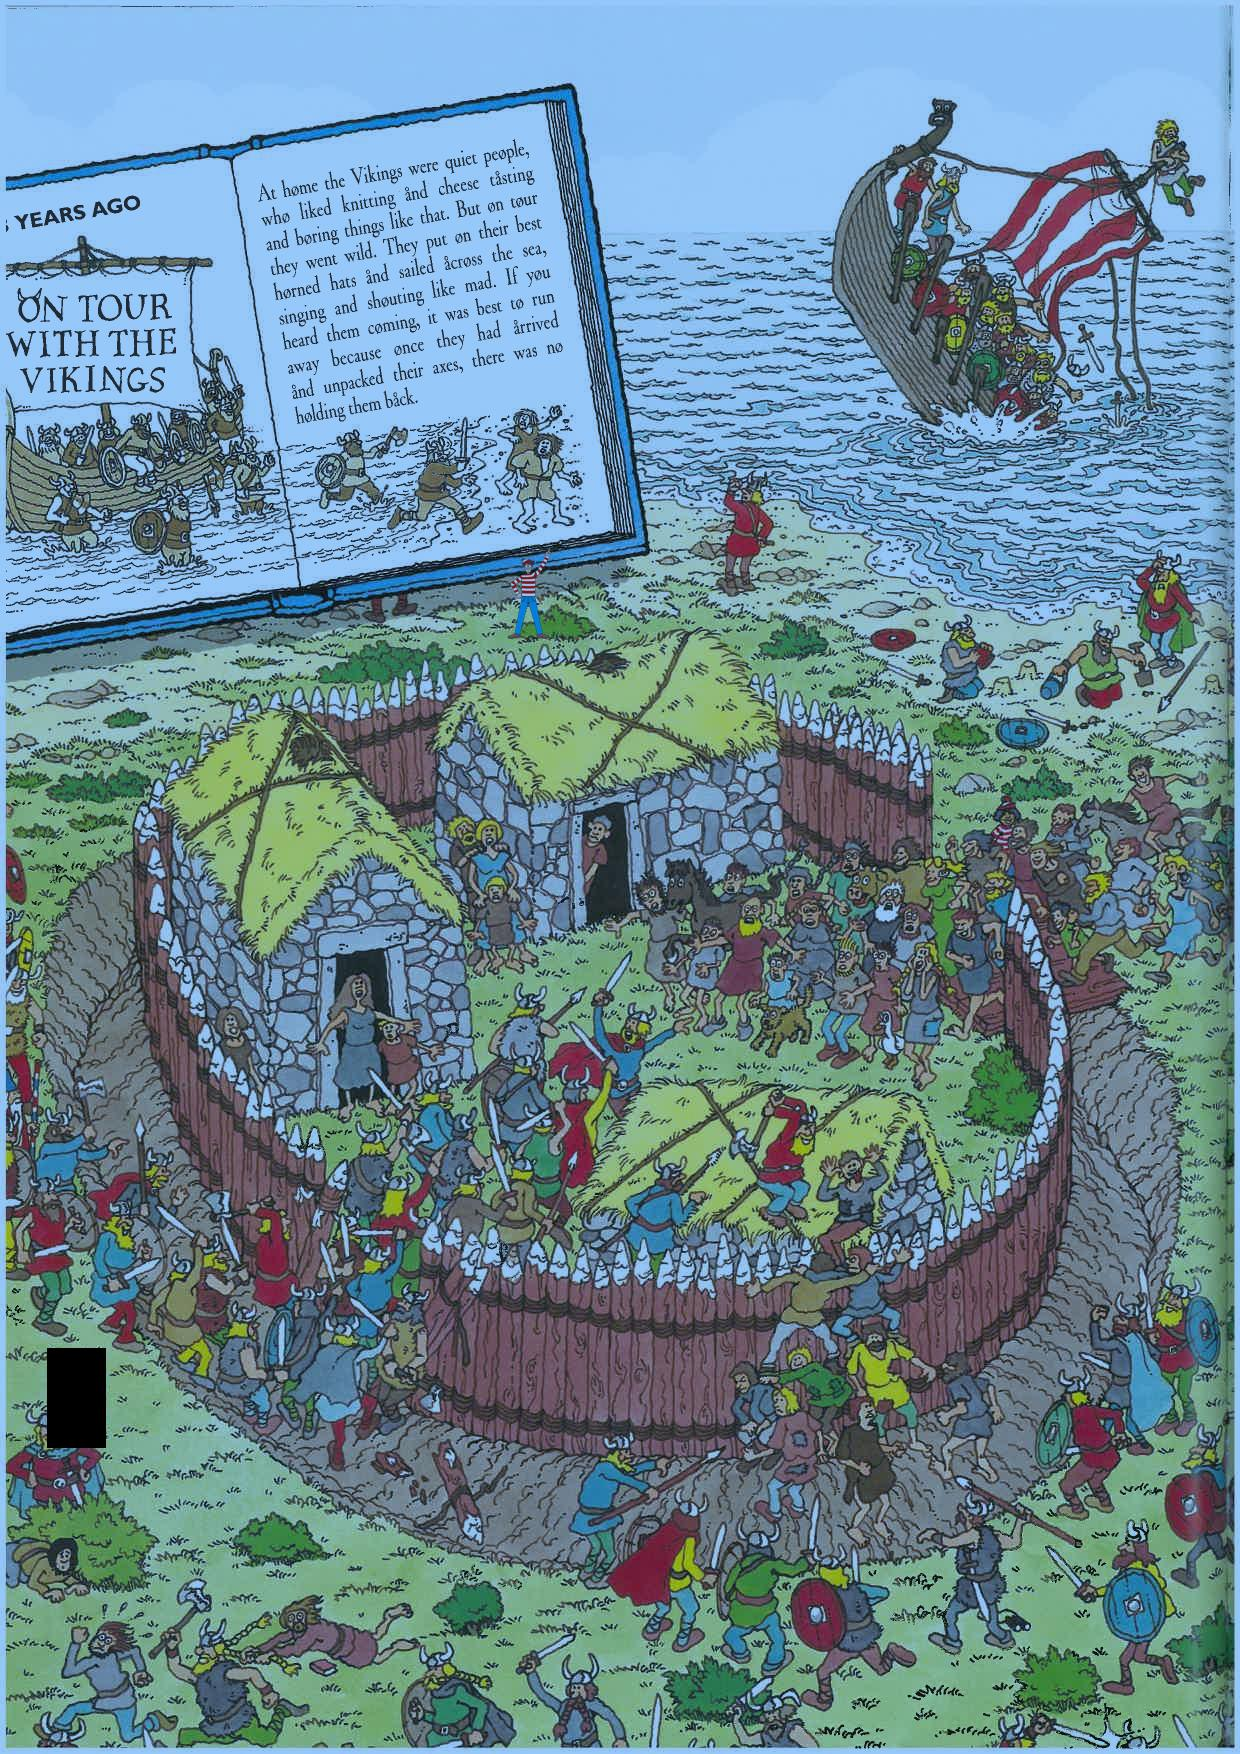waldos: (501, 545, 560, 646)
